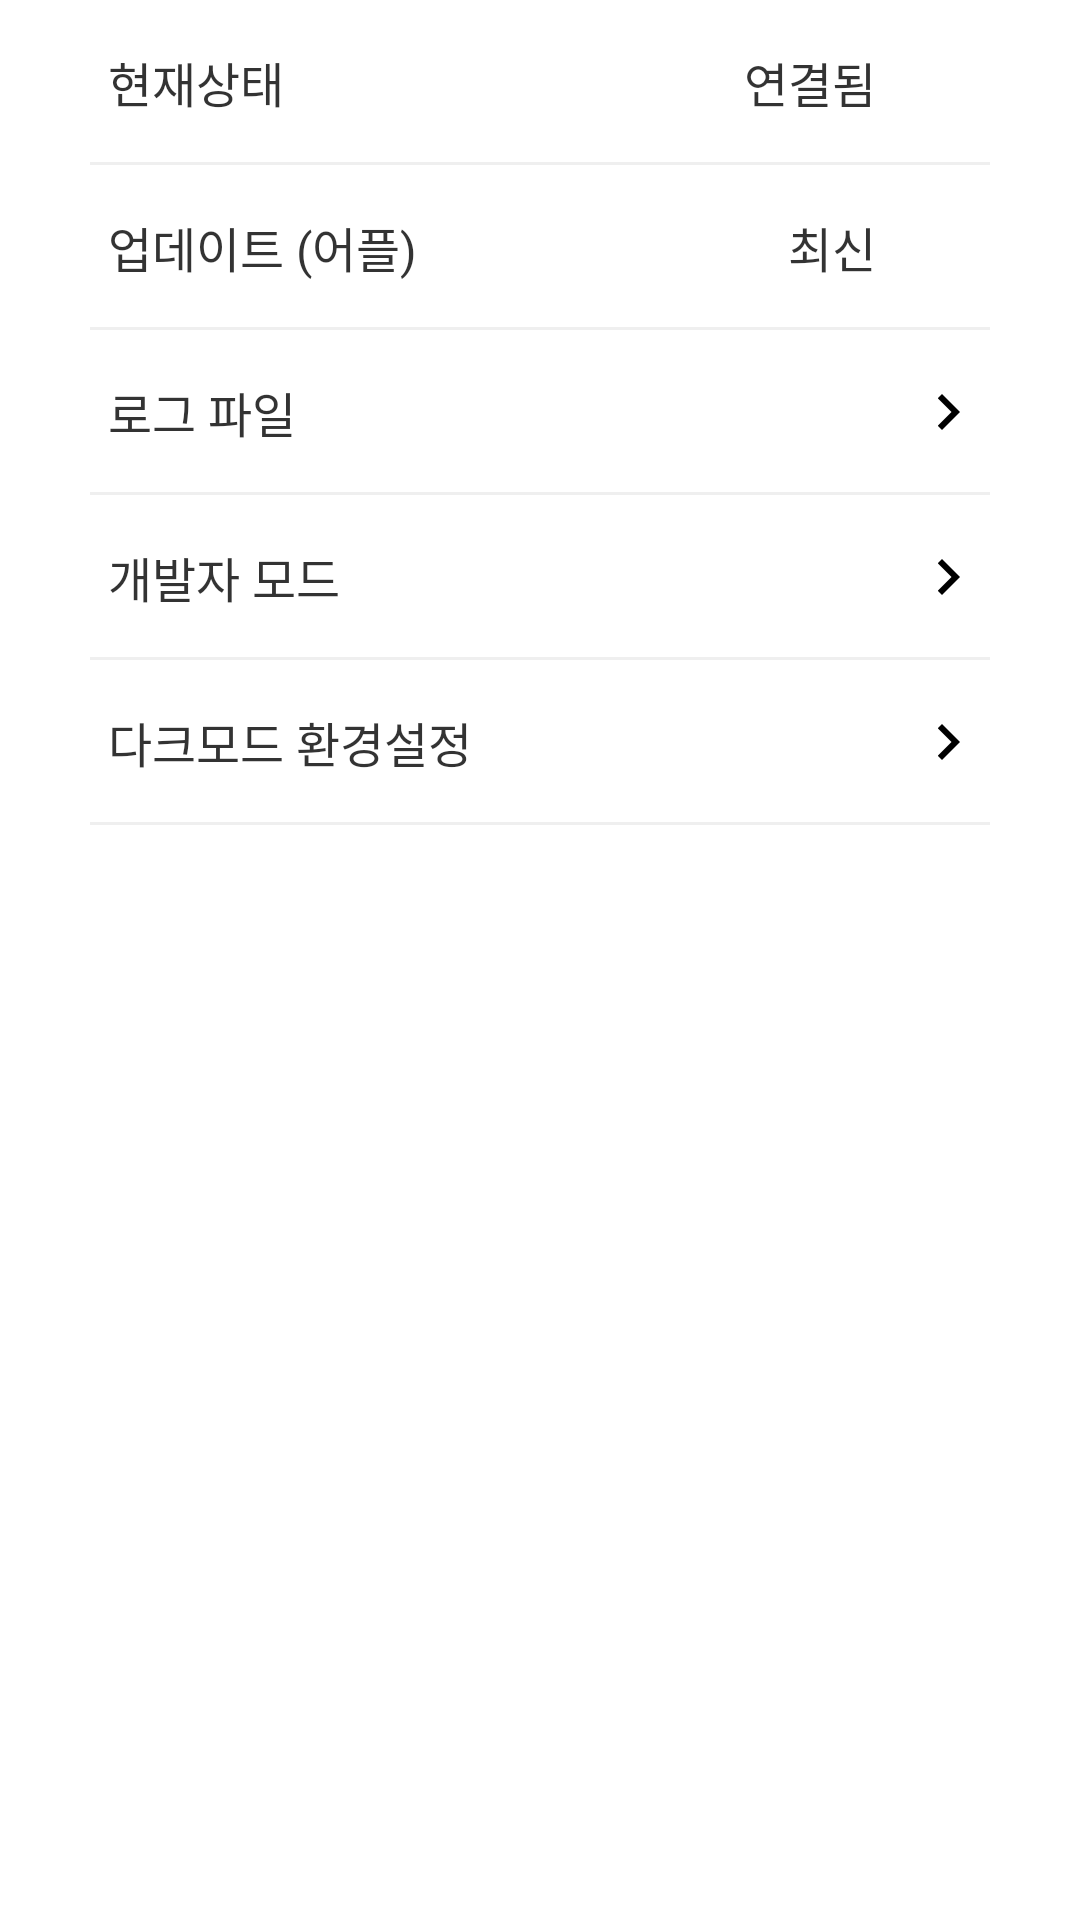

Point at icon controls on the screen. Image size 1080*1920, points as (x,y).
keyboard arrow right: (949,412), (949,577), (949,742)
